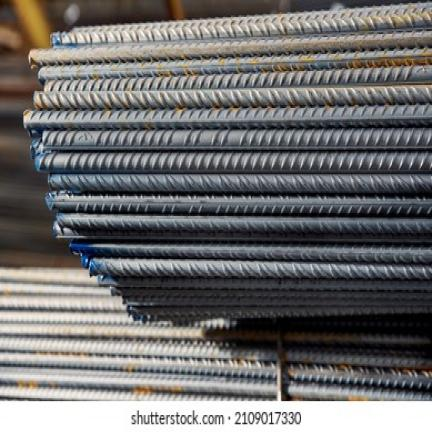besi_tidak_karat: (0, 2, 431, 401)
